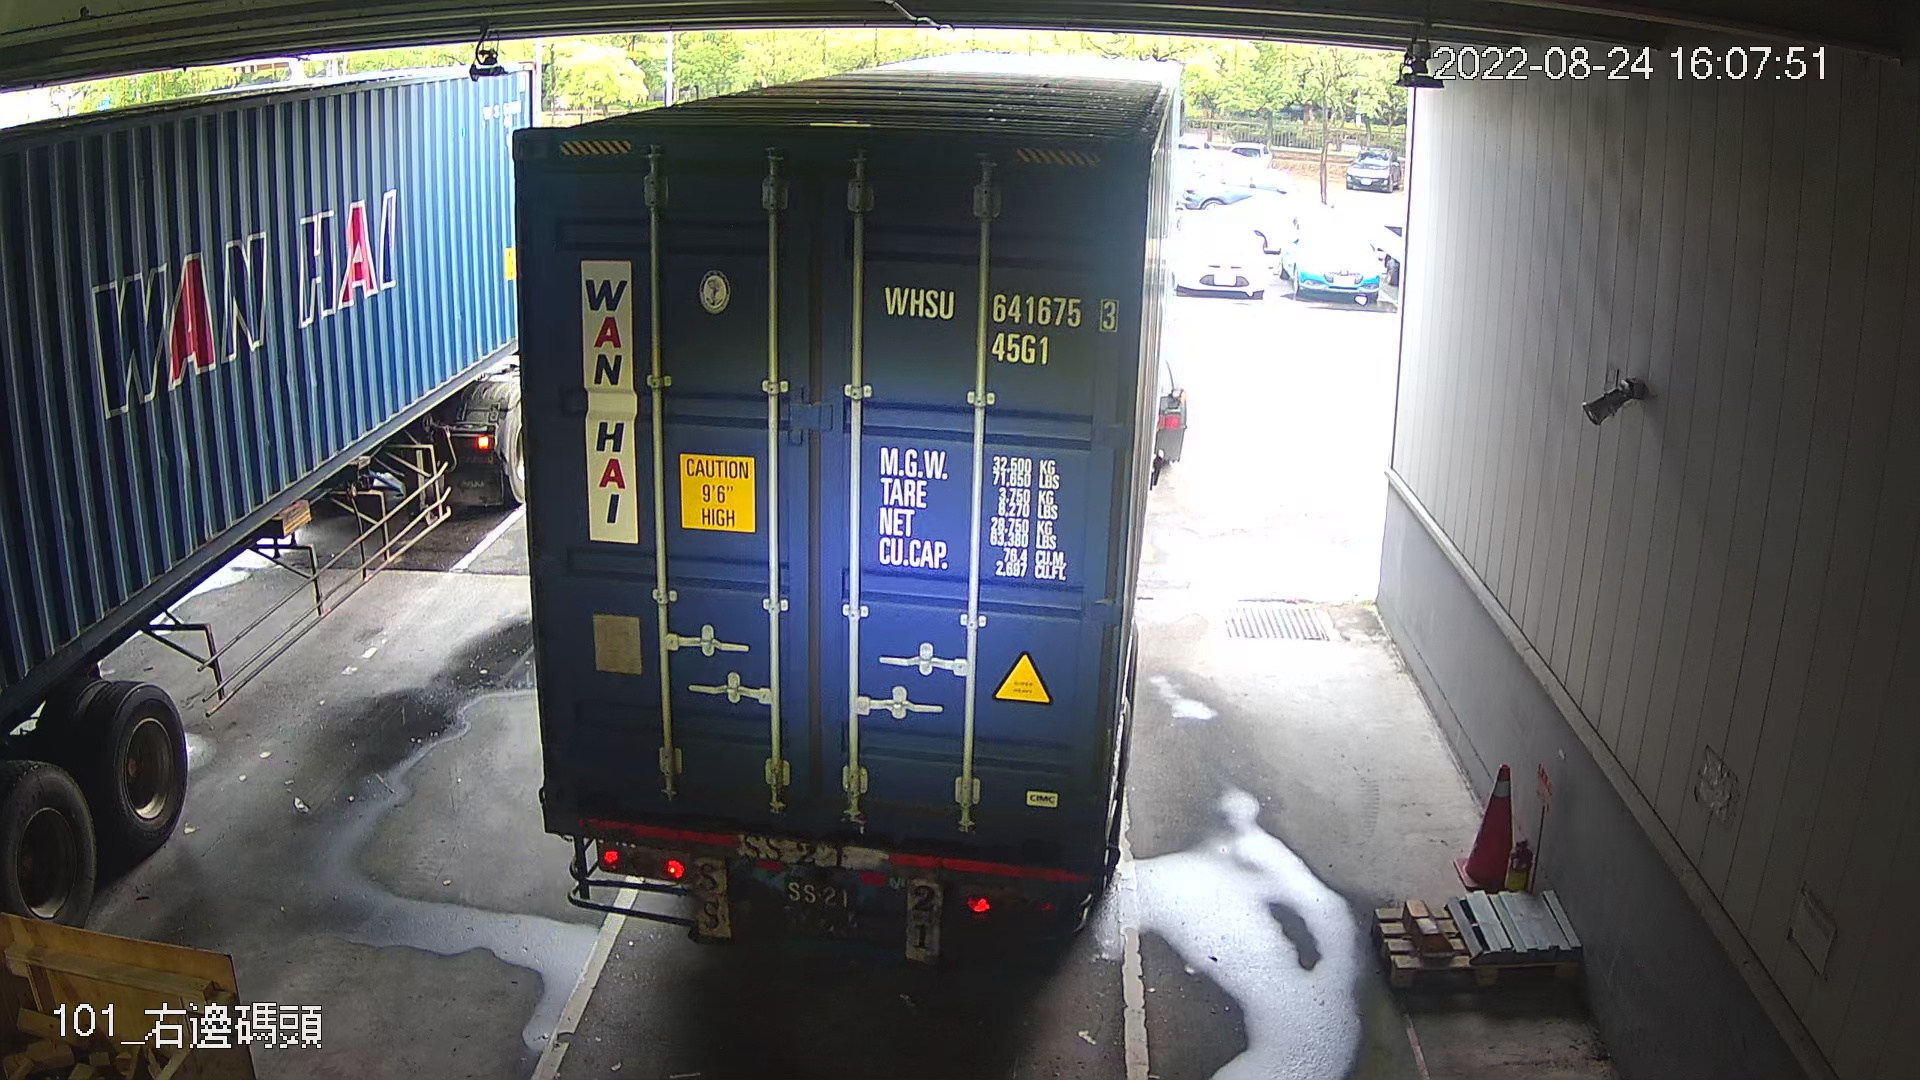container: (876, 274, 1126, 376)
